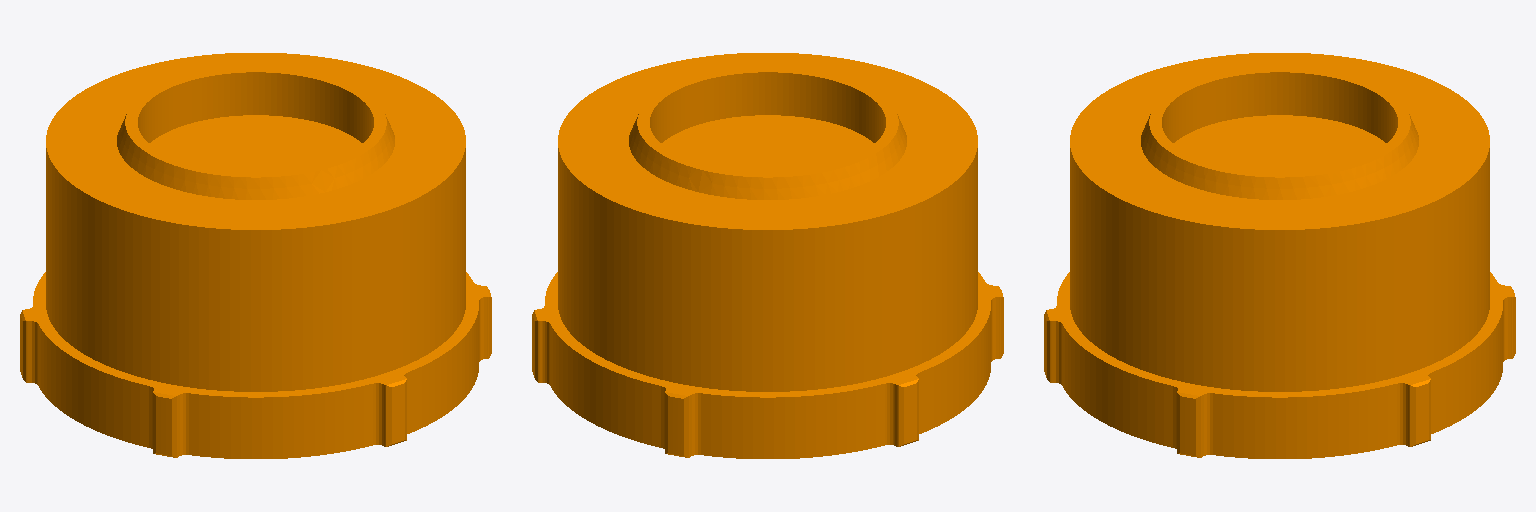
The robot description file, URDF, robot "plug":
<?xml version="1.0" ?>
<robot name="plug">
  <link name="plug_link">
    <contact>
      <!-- <lateral_friction value="1.0"/>
      <rolling_friction value="0.5"/>
      <contact_cfm value="0.0"/>
      <contact_erp value="1.0"/> -->
    </contact>
    <inertial>
      <origin rpy="0 0 0" xyz="-0.0225 0.0225 0"/>
        <mass value="0.1"/>
        <inertia ixx="0.01" ixy="0" ixz="0" iyy="0.01" iyz="0" izz="0.01"/>
    </inertial>
    <visual>
      <origin rpy="-1.570796 0 0" xyz="0 0 0.0225"/>
      <geometry>
			  <mesh filename="meshes/plug/plug.stl" scale="0.001 0.001 0.001"/>
      </geometry>
      <material name="orange">
        <color rgba="1 0.6 0 1"/>
      </material>
    </visual>
    <collision>
      <origin rpy="-1.570796 0 0" xyz="0 0 0.0225"/>
      <geometry>
	 	    <mesh filename="meshes/plug/plug.stl" scale="0.001 0.001 0.001"/>
      </geometry>
    </collision>
  </link>
  <link name="plug_target_link">
    <inertial>
      <mass value="0" />
      <origin rpy="0 0 0" xyz="0.0 0.0 0.0" />
      <inertia ixx="0.0" ixy="0.0" ixz="0.0" iyy="0.0" iyz="0.0" izz="0.0" />
    </inertial>
  </link>
  <joint name="plug_link-plug_target_link" type="fixed">
    <parent link="plug_link"/>
    <child link="plug_target_link"/>
    <origin rpy="0.0 0.0 0.0" xyz="0.0 0.0 0.0"/>
  </joint>
</robot>

--- What the picture shows (computed from the rendered views, not written in the file) ---
The picture shows the robot from 3 angles, left to right: view 1: azimuth 30°, elevation 25°; view 2: azimuth 150°, elevation 25°; view 3: azimuth 270°, elevation 25°; orthographic projection.
Robot: plug — 2 links, 1 joints (1 fixed); root link plug_link; default pose: every joint at zero.
Links seen in each view (by area): view 1: plug_link; view 2: plug_link; view 3: plug_link.
Boxes of the visible links, <box> form: plug_link: <box>20,53,491,458</box>; plug_link: <box>532,53,1003,458</box>; plug_link: <box>1044,53,1515,458</box>.
Size in the robot's own frame: 0.085 by 0.0897 by 0.053 metres.
Meshes: 1 distinct files referenced, 1 mesh visuals loaded (1 binary STL).